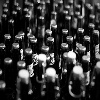beer: (16, 70, 38, 100)
